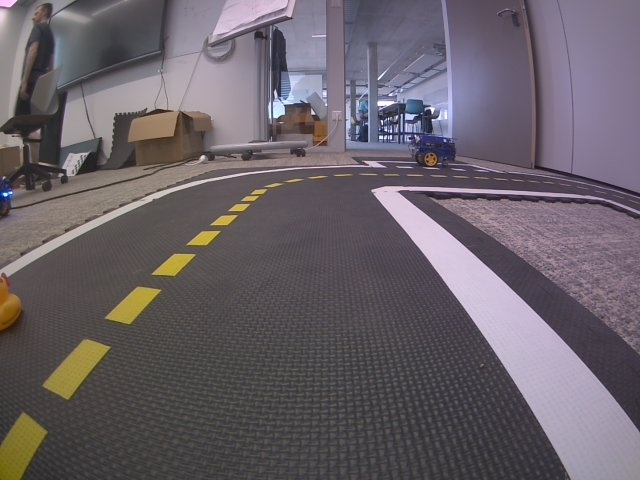Bot: (406, 132, 458, 166)
occupiedSlot: (363, 160, 504, 173)
